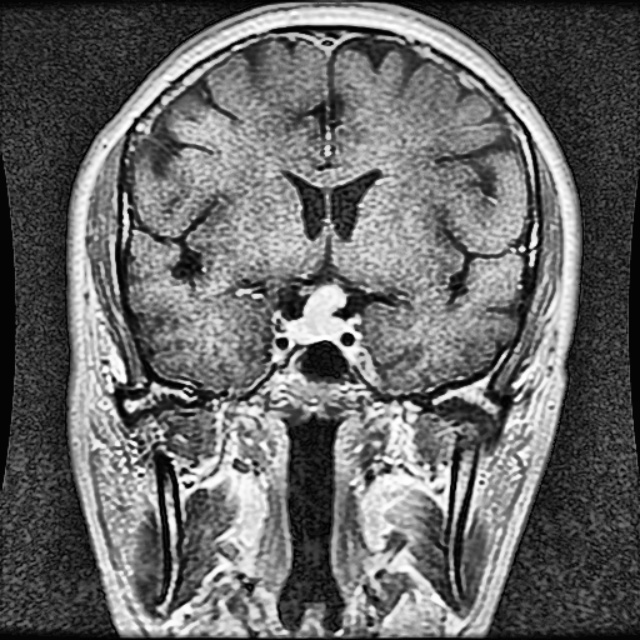Pituitary: (288, 284, 347, 343)
